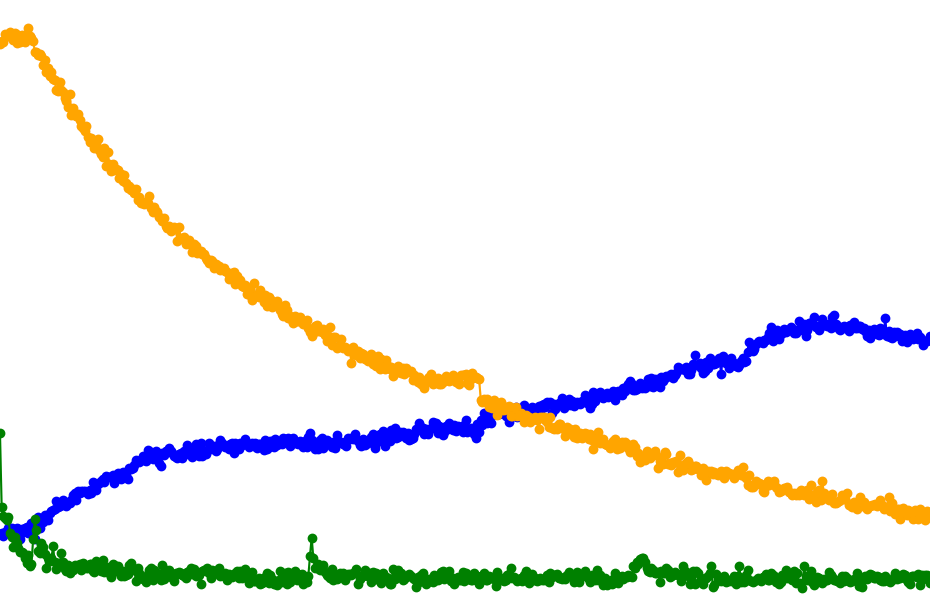CO2 Problem: (397, 0, 676, 616), (676, 0, 930, 616), (119, 0, 278, 616), (397, 0, 517, 616), (278, 0, 397, 616), (835, 0, 930, 616)
Condensation CO2: (119, 0, 278, 616), (397, 0, 517, 616), (119, 0, 238, 616), (278, 0, 397, 616), (39, 0, 119, 616)
Low O2: (596, 0, 930, 616), (676, 0, 930, 616), (716, 0, 930, 616), (795, 0, 930, 616), (835, 0, 930, 616)
Normal: (278, 0, 930, 616), (517, 0, 930, 616), (0, 0, 397, 616), (596, 0, 930, 616), (397, 0, 676, 616), (0, 0, 278, 616), (119, 0, 397, 616), (676, 0, 930, 616), (397, 0, 636, 616), (716, 0, 930, 616), (397, 0, 596, 616), (755, 0, 930, 616), (119, 0, 278, 616), (795, 0, 930, 616), (397, 0, 517, 616), (0, 0, 119, 616), (119, 0, 238, 616), (278, 0, 397, 616), (835, 0, 930, 616), (39, 0, 119, 616), (596, 0, 676, 616), (0, 0, 79, 616), (676, 0, 755, 616)
O2 Problem: (397, 0, 930, 616), (755, 0, 930, 616), (119, 0, 278, 616), (397, 0, 517, 616), (278, 0, 397, 616)
